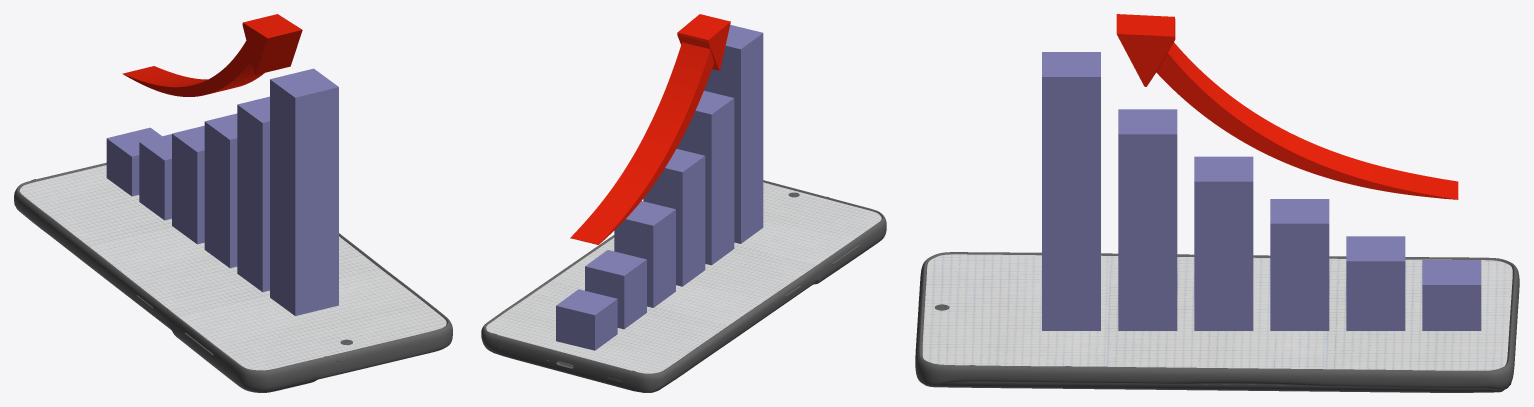
The model's file is stat.glb.
3 views of the same model, side by side, from view 1: azimuth 30°, elevation 25°; view 2: azimuth 150°, elevation 25°; view 3: azimuth 270°, elevation 25° (orthographic). The views are drawn at different scales.
Parts seen in each view (by area): view 1: polySurface3_17, pCube6_14, polySurface2_16, pCube5_13, pCube7_15, pCube4_12, pCube3_11, pCube2_10, pCube1_9; view 2: polySurface3_17, pCube7_15, polySurface2_16, pCube6_14, pCube5_13, pCube4_12, pCube3_11, pCube2_10, pCube1_9; view 3: polySurface3_17, pCube6_14, polySurface2_16, pCube5_13, pCube7_15, pCube4_12, pCube3_11, pCube2_10, pCube1_9.
Part boxes in pixels (bbox=[...]): polySurface3_17: bbox=[19, 165, 446, 370]; pCube6_14: bbox=[270, 68, 338, 315]; polySurface2_16: bbox=[14, 162, 452, 392]; pCube5_13: bbox=[237, 96, 269, 292]; pCube7_15: bbox=[122, 14, 302, 96]; pCube4_12: bbox=[204, 113, 237, 268]; pCube3_11: bbox=[172, 125, 204, 244]; pCube2_10: bbox=[139, 134, 171, 220]; pCube1_9: bbox=[106, 127, 161, 196]; polySurface3_17: bbox=[486, 182, 881, 373]; pCube7_15: bbox=[570, 14, 730, 244]; polySurface2_16: bbox=[481, 180, 886, 392]; pCube6_14: bbox=[704, 25, 763, 243]; pCube5_13: bbox=[676, 90, 734, 265]; pCube4_12: bbox=[643, 149, 705, 286]; pCube3_11: bbox=[614, 201, 675, 307]; pCube2_10: bbox=[585, 250, 646, 329]; pCube1_9: bbox=[556, 289, 617, 350]; polySurface3_17: bbox=[922, 254, 1512, 370]; pCube6_14: bbox=[1042, 52, 1100, 330]; polySurface2_16: bbox=[915, 252, 1519, 392]; pCube5_13: bbox=[1118, 109, 1177, 330]; pCube7_15: bbox=[1116, 14, 1458, 199]; pCube4_12: bbox=[1194, 156, 1253, 330]; pCube3_11: bbox=[1270, 199, 1329, 330]; pCube2_10: bbox=[1346, 236, 1405, 330]; pCube1_9: bbox=[1422, 260, 1481, 330].
Bounding box in the file's own units: 0.3934 × 0.4774 × 0.8076.
4 materials, 1 textured.
